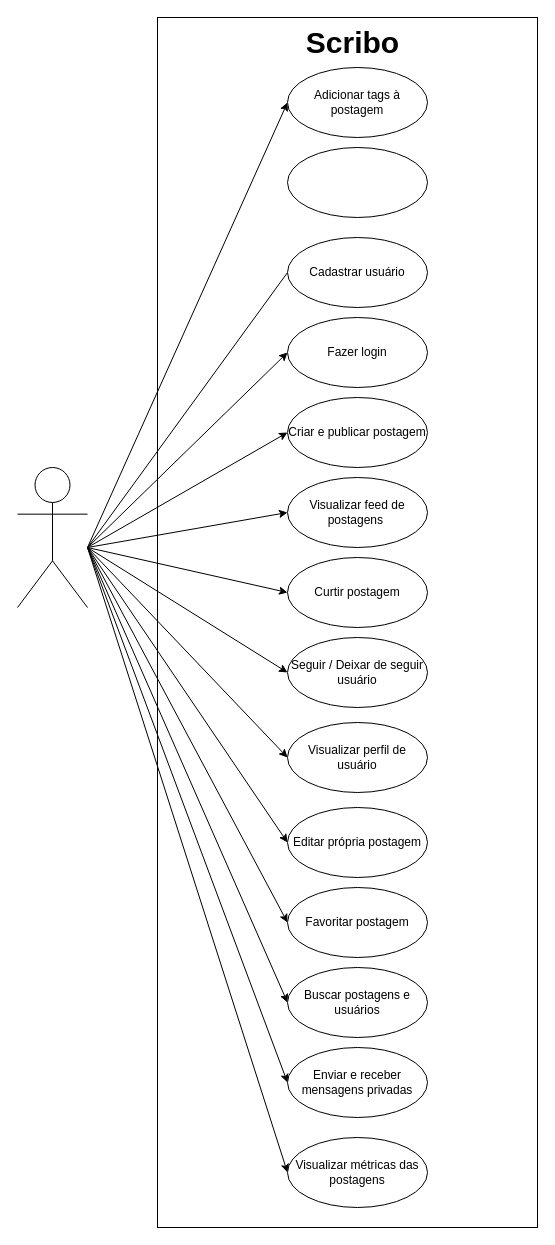
Some shapes in this 555 by 1245 pixel diagram are drawn without their labels. Each missing label, with the centre of its shape:
Compartilhar postagem: [357,182]
Usuário: [52,537]
